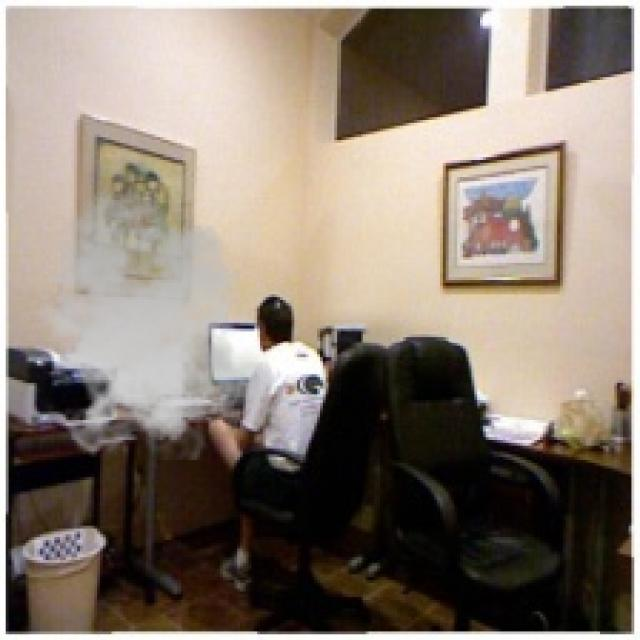smoke: (23, 189, 268, 460)
